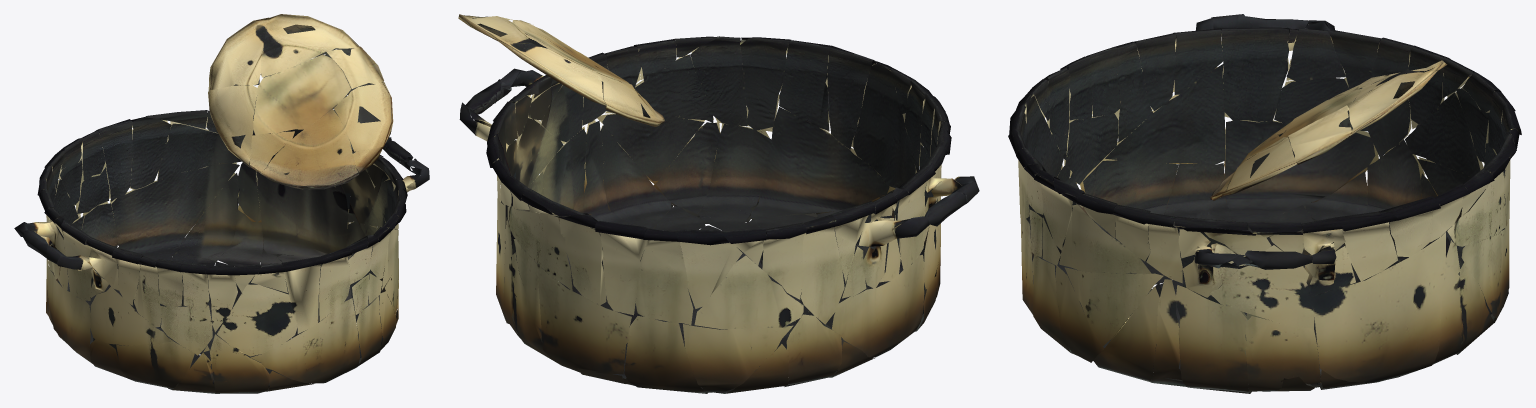
The model's file is Discarded_enamel_cooking_pot-game.glb.
3 renders of one model, left to right at view 1: azimuth 30°, elevation 25°; view 2: azimuth 150°, elevation 25°; view 3: azimuth 270°, elevation 25°, orthographic. The views are drawn at different scales.
Parts seen in each view (by area): view 1: Mesh_0; view 2: Mesh_0; view 3: Mesh_0.
Part boxes in pixels (bbox=[...]): Mesh_0: bbox=[14, 14, 429, 393]; Mesh_0: bbox=[458, 14, 979, 393]; Mesh_0: bbox=[1008, 14, 1521, 393].
Bounding box in the file's own units: 1.89 × 1.18 × 1.69.
1 material, 1 textured.
